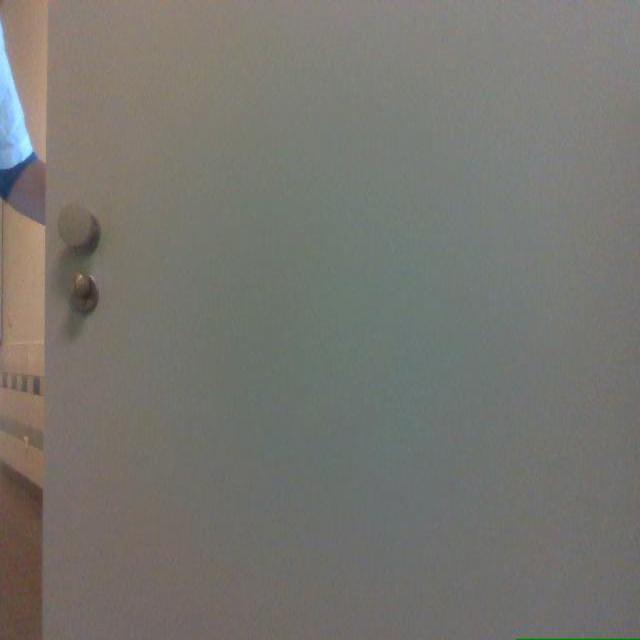humans: (0, 17, 46, 225)
objects: (41, 0, 639, 639)
